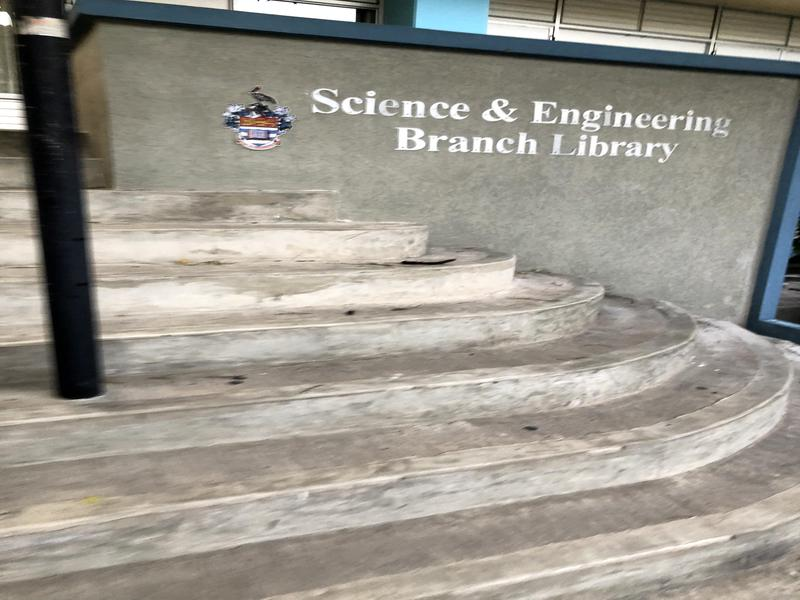18.0053644_-76.7493880_librarysign: (301, 79, 742, 173)
